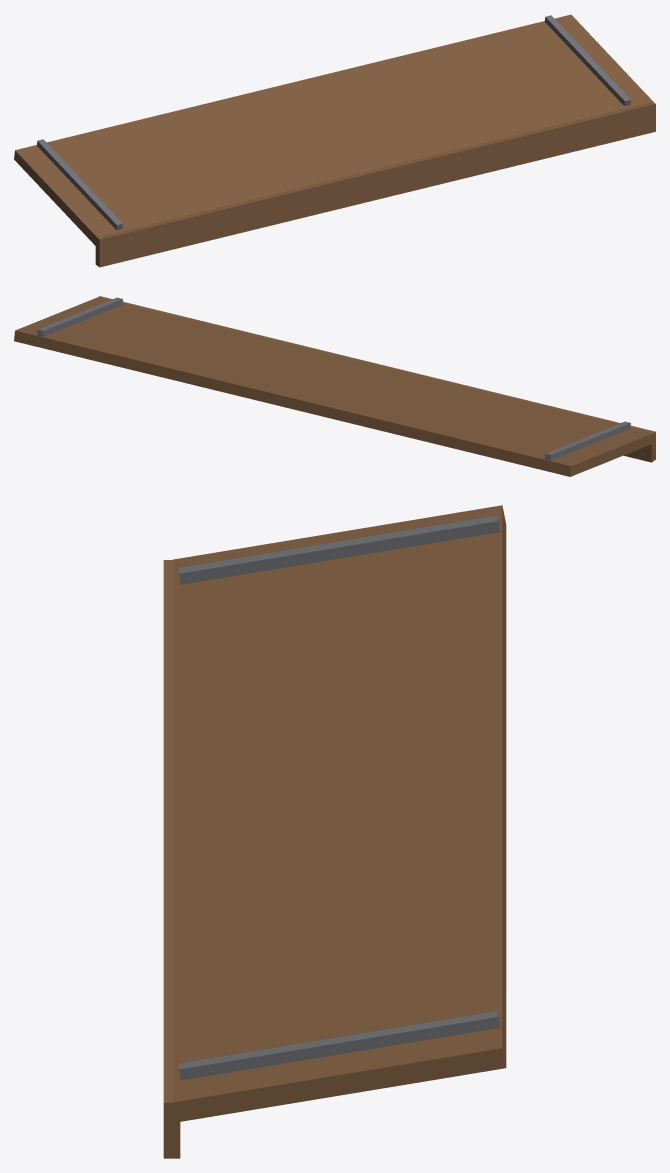
The model's file is SM_P1_Storefront_Awning_A.obj.
3 renders of one model, top to bottom at view 1: azimuth 30°, elevation 25°; view 2: azimuth 150°, elevation 25°; view 3: azimuth 270°, elevation 25°, orthographic. The views are drawn at different scales.
Parts seen in each view (by area): view 1: canopy, valance, arm_r, arm_l; view 2: canopy, valance, arm_l, arm_r; view 3: canopy, valance, arm_l, arm_r.
Boxes of the visible parts, x1=… form: canopy: x1=14, y1=14, x2=653, y2=246; valance: x1=95, y1=102, x2=655, y2=267; arm_r: x1=544, y1=15, x2=630, y2=106; arm_l: x1=37, y1=139, x2=122, y2=230; canopy: x1=14, y1=297, x2=653, y2=476; valance: x1=98, y1=296, x2=655, y2=462; arm_l: x1=544, y1=421, x2=630, y2=460; arm_r: x1=37, y1=297, x2=122, y2=336; canopy: x1=172, y1=505, x2=506, y2=1121; valance: x1=163, y1=560, x2=180, y2=1158; arm_l: x1=179, y1=515, x2=499, y2=584; arm_r: x1=179, y1=1011, x2=499, y2=1080.
Size of the model in its own units: 4.6 by 0.4784 by 1.23.
